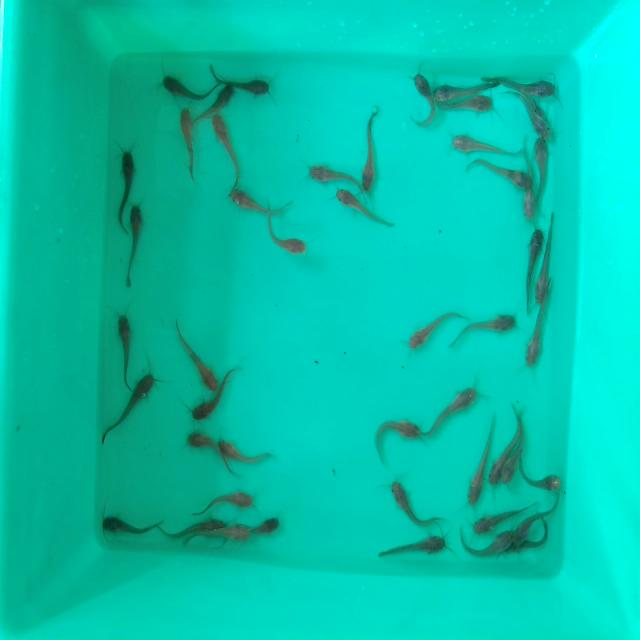lele: (105, 372, 154, 432), (177, 324, 218, 392), (332, 188, 394, 231), (372, 416, 422, 464), (389, 479, 438, 527), (263, 212, 311, 260), (378, 532, 451, 562), (218, 435, 282, 467), (430, 383, 478, 425), (210, 118, 240, 184), (466, 156, 525, 187), (408, 73, 438, 133), (409, 310, 455, 349), (448, 130, 516, 156), (520, 488, 562, 530), (212, 68, 274, 96), (467, 424, 488, 506), (362, 111, 384, 187), (473, 498, 522, 532), (520, 308, 546, 371), (95, 511, 160, 536), (458, 311, 518, 338), (463, 532, 514, 563), (227, 187, 282, 215), (159, 515, 228, 537), (307, 160, 362, 187), (192, 388, 230, 426), (184, 429, 221, 468), (178, 108, 198, 176), (522, 459, 562, 491), (198, 490, 256, 512), (116, 314, 134, 384), (118, 144, 134, 219), (162, 75, 208, 101), (503, 73, 556, 95), (196, 88, 231, 120), (248, 510, 291, 536), (127, 202, 142, 274), (534, 242, 552, 302), (432, 80, 492, 98), (504, 437, 527, 483), (509, 90, 549, 116), (517, 525, 553, 553), (206, 524, 251, 546), (443, 94, 494, 112), (489, 438, 507, 488), (525, 228, 542, 280), (523, 155, 536, 220), (536, 137, 548, 206), (524, 115, 560, 138)
